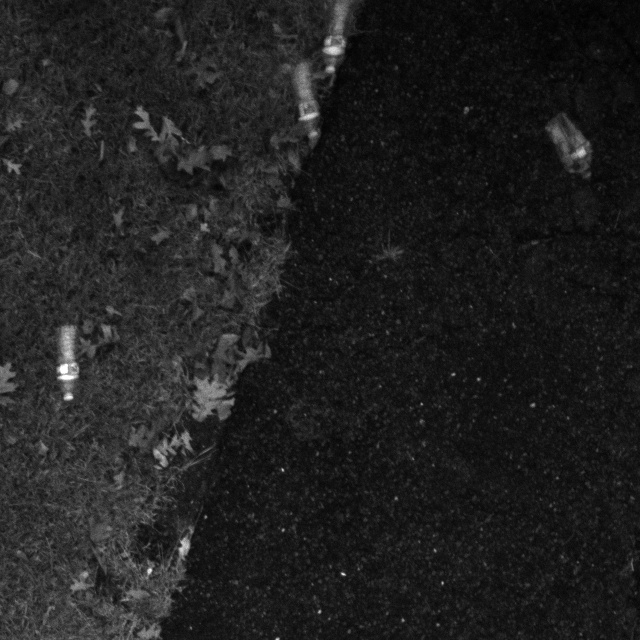bottle: (543, 99, 598, 187), (46, 314, 88, 414), (287, 54, 327, 145), (311, 0, 356, 73)
